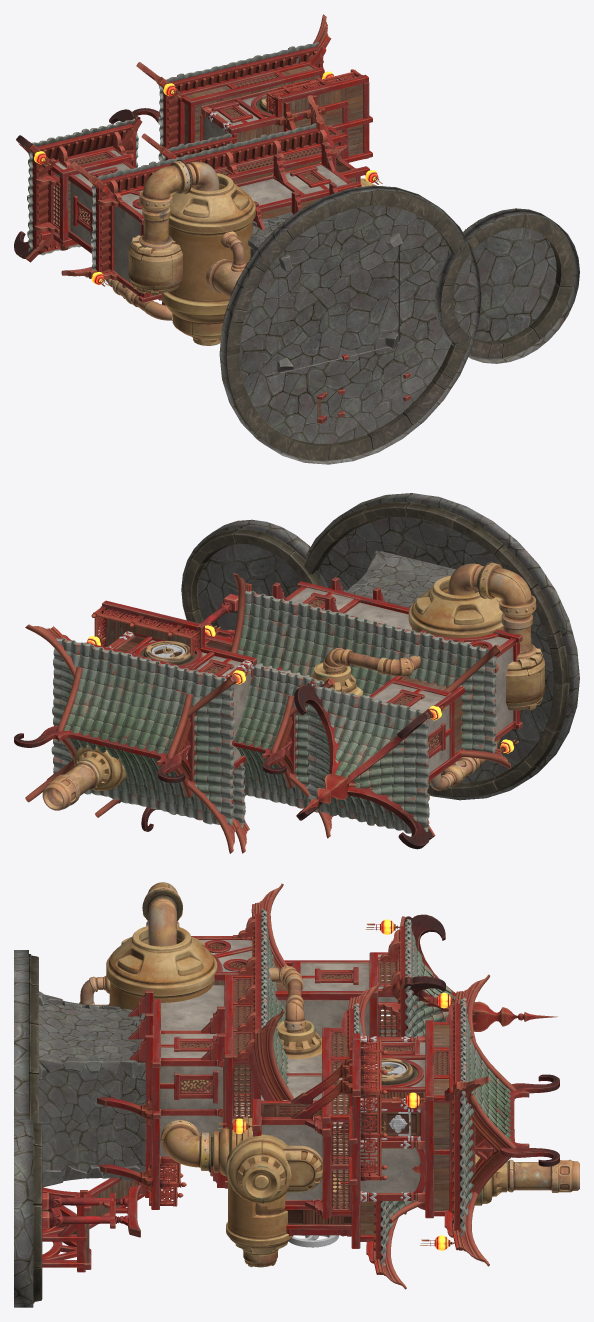
File: steampunk_tower.fbx
3 views of the same model, one above another, from view 1: azimuth 30°, elevation 25°; view 2: azimuth 150°, elevation 25°; view 3: azimuth 270°, elevation 25° (orthographic). The views are drawn at different scales.
Parts seen in each view (by area): view 1: Cube.023; view 2: Cube.023; view 3: Cube.023.
Part boxes in pixels (bbox=[...]): Cube.023: bbox=[14, 14, 579, 464]; Cube.023: bbox=[14, 493, 579, 853]; Cube.023: bbox=[14, 882, 579, 1307].
Bounding box in the file's own units: 84.17 × 55.71 × 86.74.
